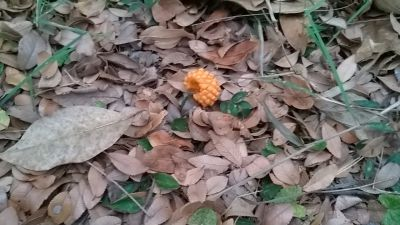eggs: (183, 68, 221, 106)
